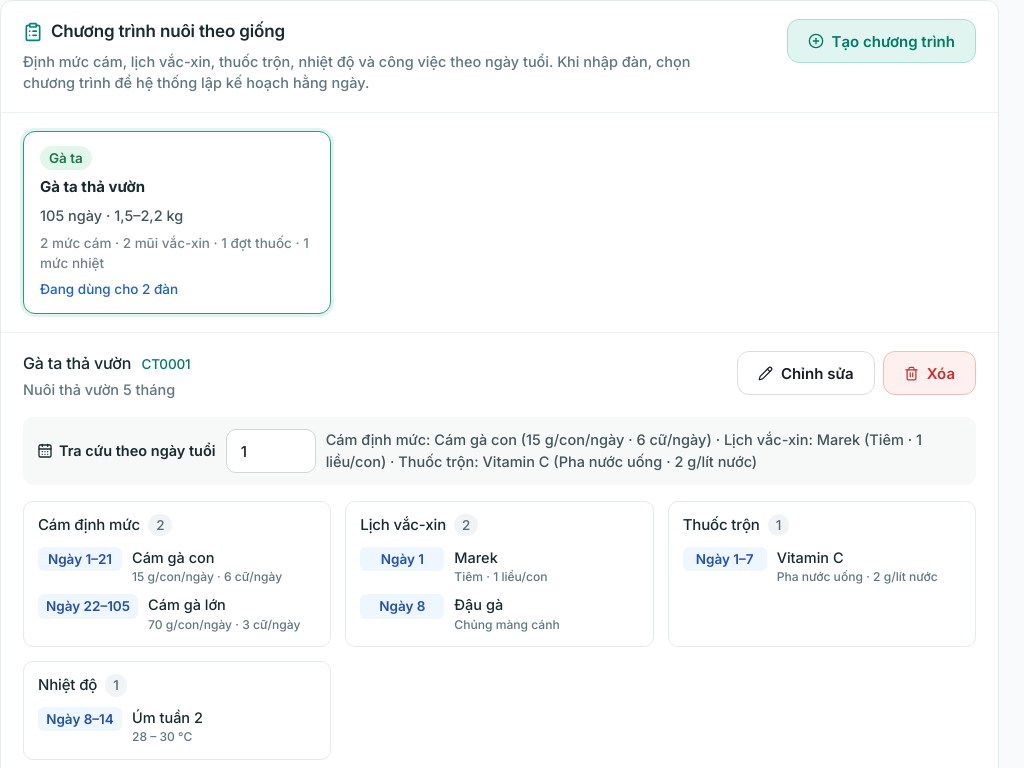
Scenario: Farming programs by breed › shows a breed program with its sections and a day-of-age lookup
This screenshot has width=1024, height=768.
Check: the heading "Gà ta thả vườn CT0001" is shown, box x1=23 y1=351 x2=190 y2=375
Check: the text "105 ngày · 1,5–2,2 kg" is shown, box x1=40 y1=205 x2=183 y2=227
Replace the text in the number field labelled "Tra cứu theo ngày tuổi" with "8" at (271, 451), box x1=226 y1=429 x2=316 y2=473
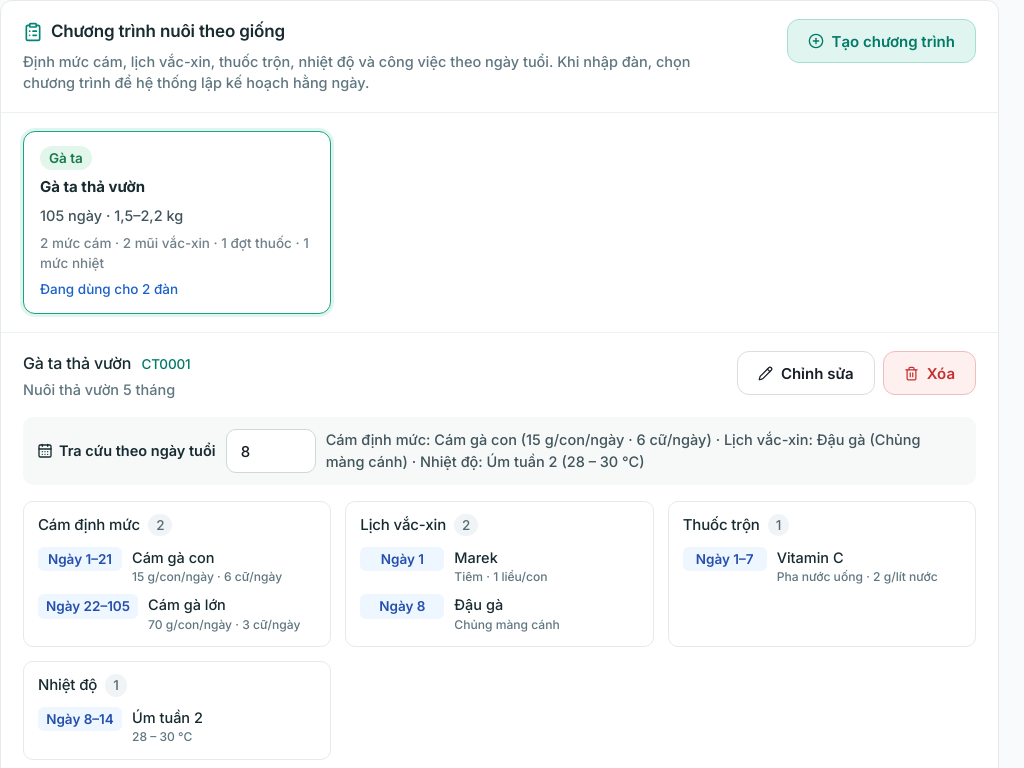
Check: the text "Lịch vắc-xin: Đậu gà" shows "Cám định mức: Cám gà con (15 g/con/ngày · 6 cữ/ngày)", box x1=326 y1=431 x2=920 y2=470
Check: the text "Lịch vắc-xin: Đậu gà" shows "Nhiệt độ: Úm tuần 2 (28 – 30 °C)", box x1=326 y1=431 x2=920 y2=470
